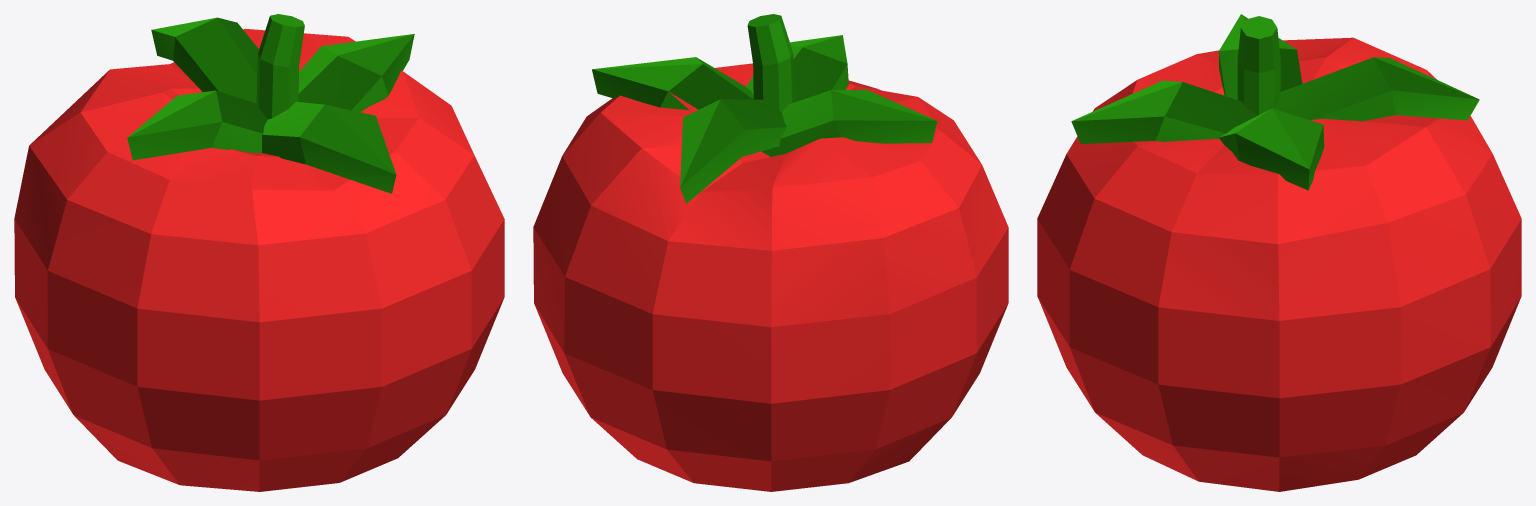
Rendered from tomato.gltf.
3 views of the same model, side by side, from view 1: azimuth 30°, elevation 25°; view 2: azimuth 150°, elevation 25°; view 3: azimuth 270°, elevation 25° (orthographic). The views are drawn at different scales.
Parts seen in each view (by area): view 1: Sphere.016 1, Buffer Layer, Sphere.016; view 2: Sphere.016 1, Buffer Layer, Sphere.016; view 3: Sphere.016 1, Buffer Layer, Sphere.016.
Boxes of the visible parts, bbox=[...] form: Sphere.016 1: bbox=[14, 28, 504, 491]; Buffer Layer: bbox=[127, 17, 414, 193]; Sphere.016: bbox=[256, 14, 304, 119]; Sphere.016 1: bbox=[533, 63, 1008, 491]; Buffer Layer: bbox=[592, 35, 937, 203]; Sphere.016: bbox=[747, 14, 794, 111]; Sphere.016 1: bbox=[1037, 37, 1521, 491]; Buffer Layer: bbox=[1071, 14, 1479, 190]; Sphere.016: bbox=[1237, 16, 1280, 115].
Bounding box in the file's own units: 4.14 × 4.23 × 4.14.
